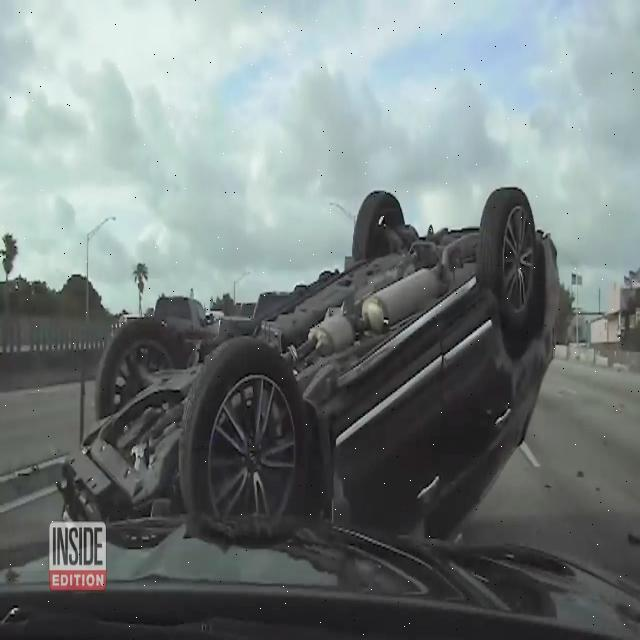accident: (57, 183, 558, 535)
